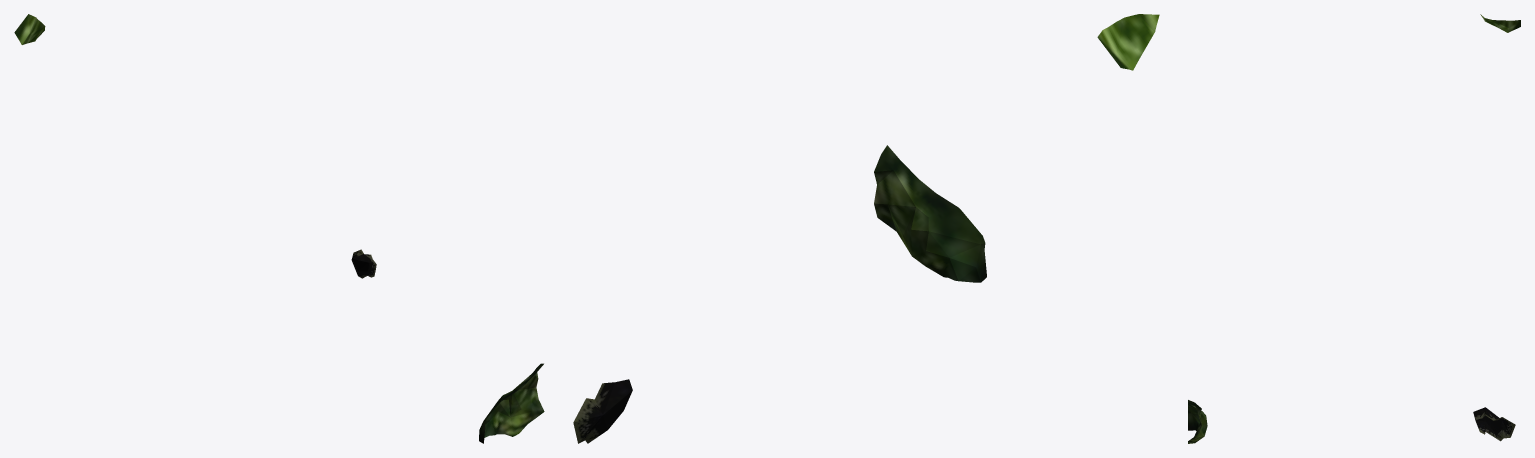
3 views of the same model, side by side, from view 1: azimuth 30°, elevation 25°; view 2: azimuth 150°, elevation 25°; view 3: azimuth 270°, elevation 25° (orthographic). The views are drawn at different scales.
Size of the model in its own units: 1.67 by 1.67 by 1.67.
Materials: 1 (1 with a texture image).
